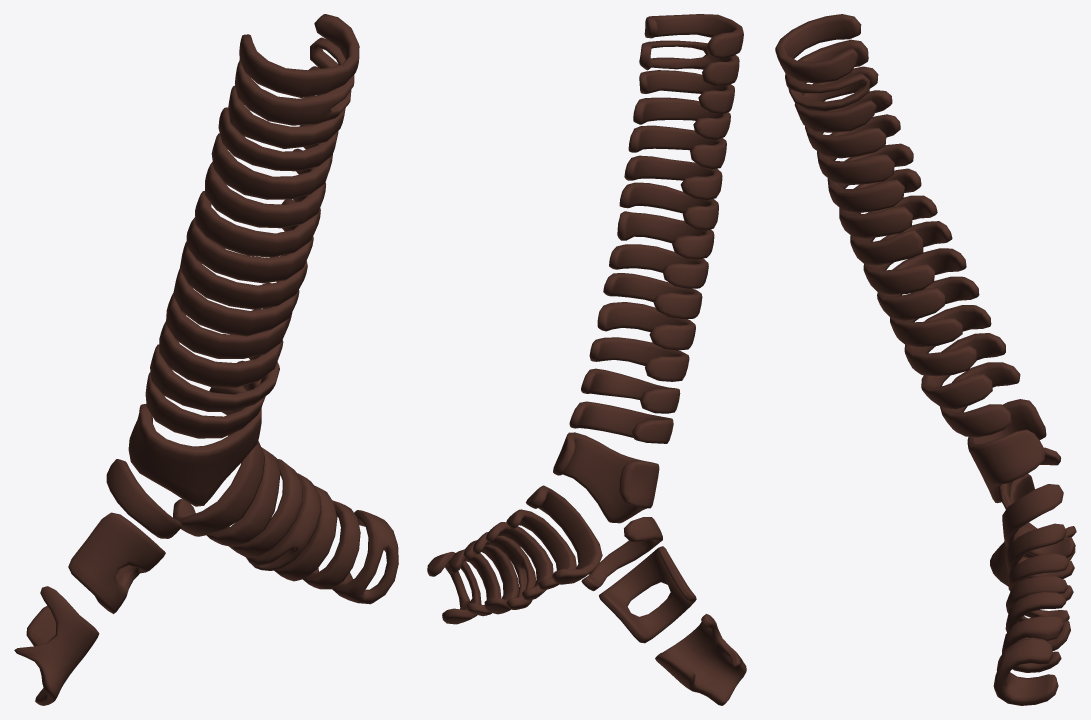
File: Respiratory.Cartilagines_tracheales.Cartilagines_tracheales.obj
The picture shows the model from 3 angles, left to right: view 1: azimuth 30°, elevation 25°; view 2: azimuth 150°, elevation 25°; view 3: azimuth 270°, elevation 25°; orthographic projection. The views are drawn at different scales.
Visible parts, largest first — view 1: Respiratory:Cartilagines_tracheales:Cartilagines_tracheales_Bron; view 2: Respiratory:Cartilagines_tracheales:Cartilagines_tracheales_Bron; view 3: Respiratory:Cartilagines_tracheales:Cartilagines_tracheales_Bron.
Boxes of the visible parts, bbox=[...] form: Respiratory:Cartilagines_tracheales:Cartilagines_tracheales_Bron: bbox=[14, 14, 398, 705]; Respiratory:Cartilagines_tracheales:Cartilagines_tracheales_Bron: bbox=[427, 14, 746, 705]; Respiratory:Cartilagines_tracheales:Cartilagines_tracheales_Bron: bbox=[775, 14, 1076, 705].
Bounding box in the file's own units: 0.361 × 0.6632 × 0.2911.
